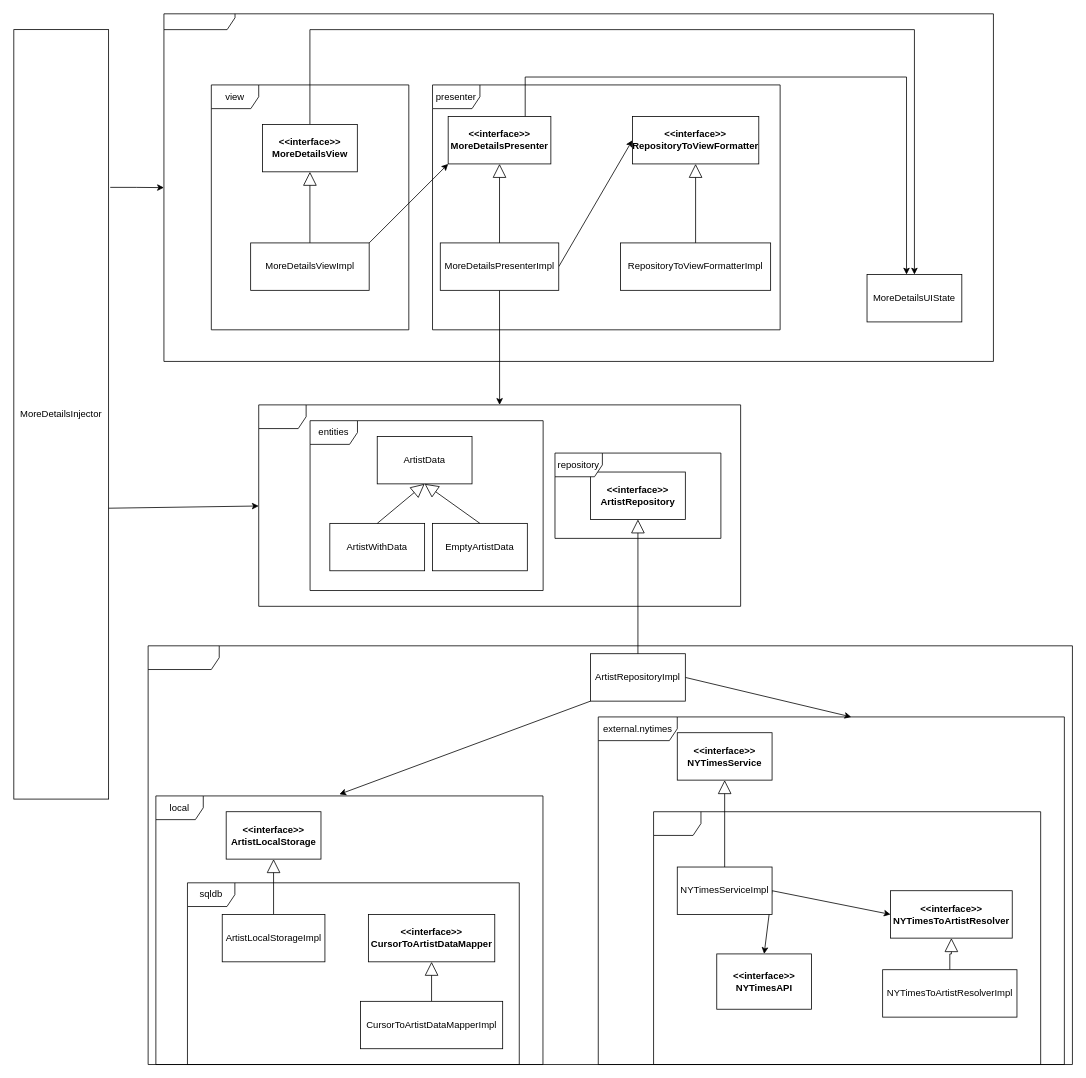
Image size: 1086x1078. Some labels were removed from this diagram. Each missing label, with the box of its shape:
data.repository: (147, 645, 1072, 1065)
domain: (258, 404, 741, 606)
presentation: (163, 13, 993, 361)
service: (653, 811, 1041, 1065)
